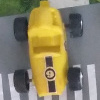carro: (16, 2, 83, 94)
